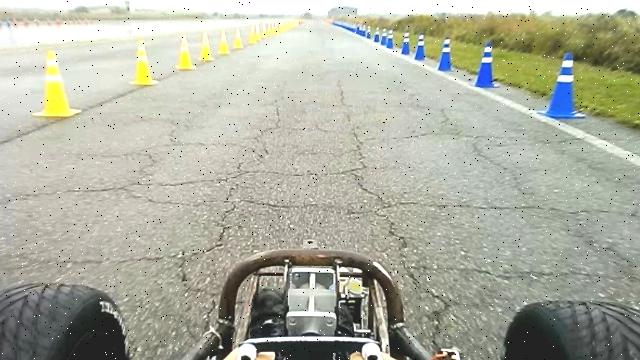blue cone: (537, 52, 586, 119), (474, 40, 501, 88), (436, 36, 455, 72), (414, 33, 426, 61), (400, 31, 410, 55), (386, 28, 395, 49), (374, 27, 381, 43), (366, 25, 372, 39)
yellow cone: (32, 49, 82, 118), (130, 39, 159, 86), (176, 36, 196, 70), (199, 30, 214, 62), (218, 30, 230, 55), (233, 28, 244, 49), (248, 25, 257, 44)
